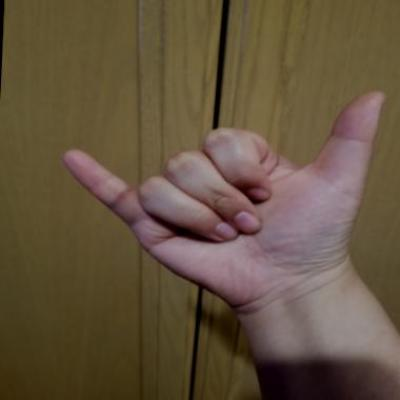hand: (47, 72, 394, 320)
